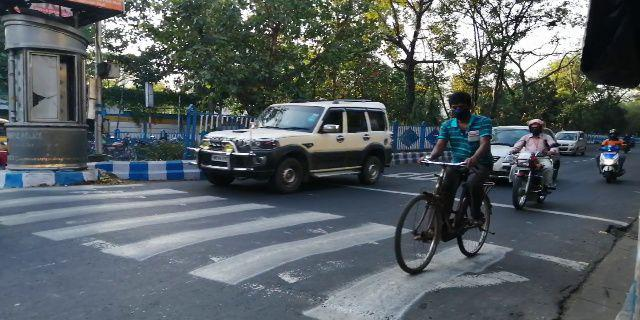Car: (194, 94, 394, 189), (488, 115, 524, 181), (552, 131, 587, 157)
Cycle: (393, 92, 499, 269)
Motorbike: (509, 114, 559, 218), (596, 127, 628, 187)
